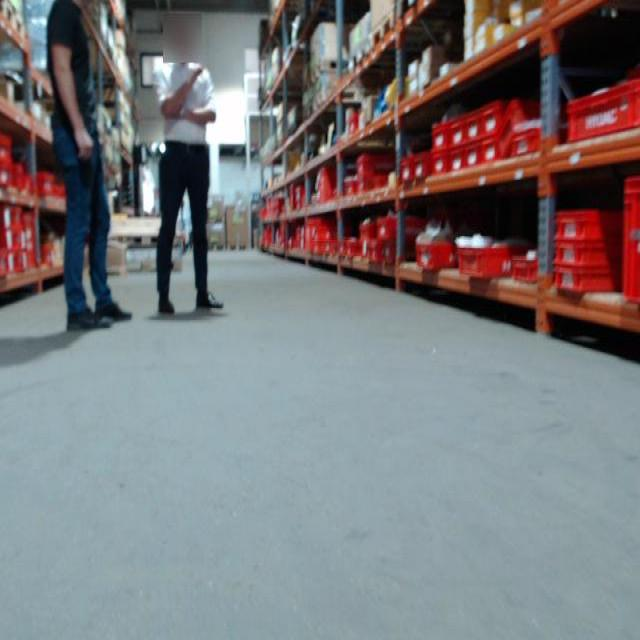pallet: (371, 10, 395, 49), (2, 0, 25, 38), (310, 58, 348, 81), (110, 235, 181, 246), (129, 262, 183, 272), (398, 0, 422, 20)
small_load_carrier: (561, 77, 639, 138), (495, 98, 550, 157), (548, 200, 621, 241), (457, 238, 523, 281), (619, 177, 639, 301), (549, 264, 619, 299), (549, 240, 621, 264), (415, 238, 463, 272), (512, 133, 546, 167), (510, 251, 540, 286), (314, 167, 338, 209), (378, 213, 425, 233), (366, 241, 403, 266), (462, 105, 482, 144), (477, 98, 496, 136), (23, 216, 35, 275), (353, 147, 374, 176), (426, 150, 448, 176), (406, 156, 429, 180), (444, 116, 463, 145), (367, 170, 387, 197), (430, 120, 448, 150), (463, 143, 481, 173), (358, 222, 376, 251), (342, 178, 360, 207), (38, 165, 57, 192), (2, 163, 18, 195), (446, 150, 465, 175), (482, 139, 501, 163), (1, 231, 18, 253), (13, 227, 28, 251), (1, 135, 13, 165), (324, 227, 344, 245), (13, 253, 30, 274), (399, 157, 410, 187), (9, 207, 22, 231), (37, 248, 51, 270), (1, 207, 13, 232), (22, 177, 34, 201), (354, 176, 367, 195), (345, 241, 358, 259), (323, 245, 339, 259), (336, 241, 349, 258), (1, 254, 8, 278), (332, 183, 341, 200), (10, 253, 16, 272)
